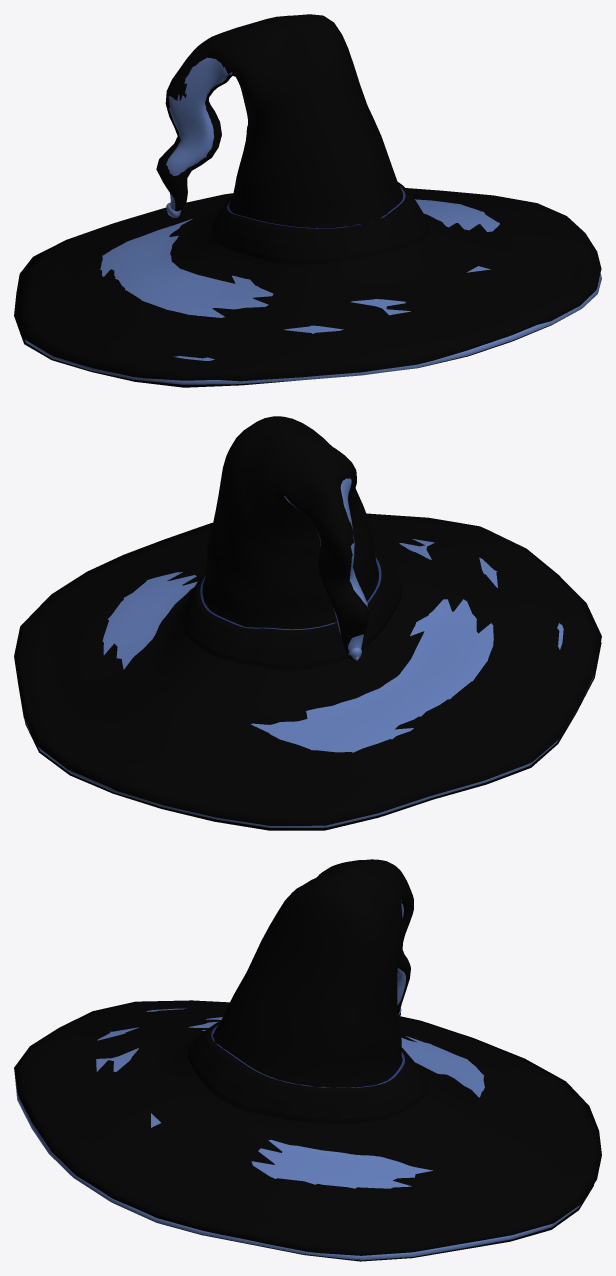
File: Hat.fbx
The picture shows the model from 3 angles, top to bottom: view 1: azimuth 30°, elevation 25°; view 2: azimuth 150°, elevation 25°; view 3: azimuth 270°, elevation 25°; orthographic projection.
Visible parts, largest first — view 1: Hat, Sphere; view 2: Hat, Sphere; view 3: Hat, Sphere.
Boxes of the visible parts, bbox=[...] form: Hat: bbox=[14, 14, 601, 387]; Sphere: bbox=[211, 182, 428, 264]; Hat: bbox=[14, 416, 601, 830]; Sphere: bbox=[183, 549, 401, 670]; Hat: bbox=[14, 859, 601, 1261]; Sphere: bbox=[188, 1020, 427, 1124].
Bounding box in the file's own units: 482 × 259 × 471.
